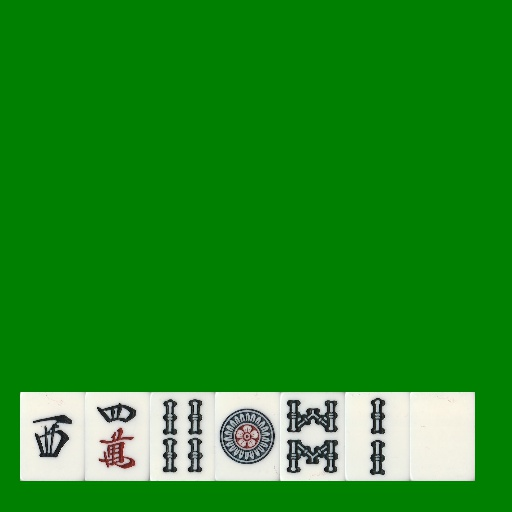1p: (215, 392, 280, 481)
2s: (345, 392, 410, 481)
4m: (85, 392, 150, 481)
4s: (150, 392, 215, 481)
8s: (280, 392, 345, 481)
west: (20, 392, 85, 481)
white: (410, 392, 475, 481)
